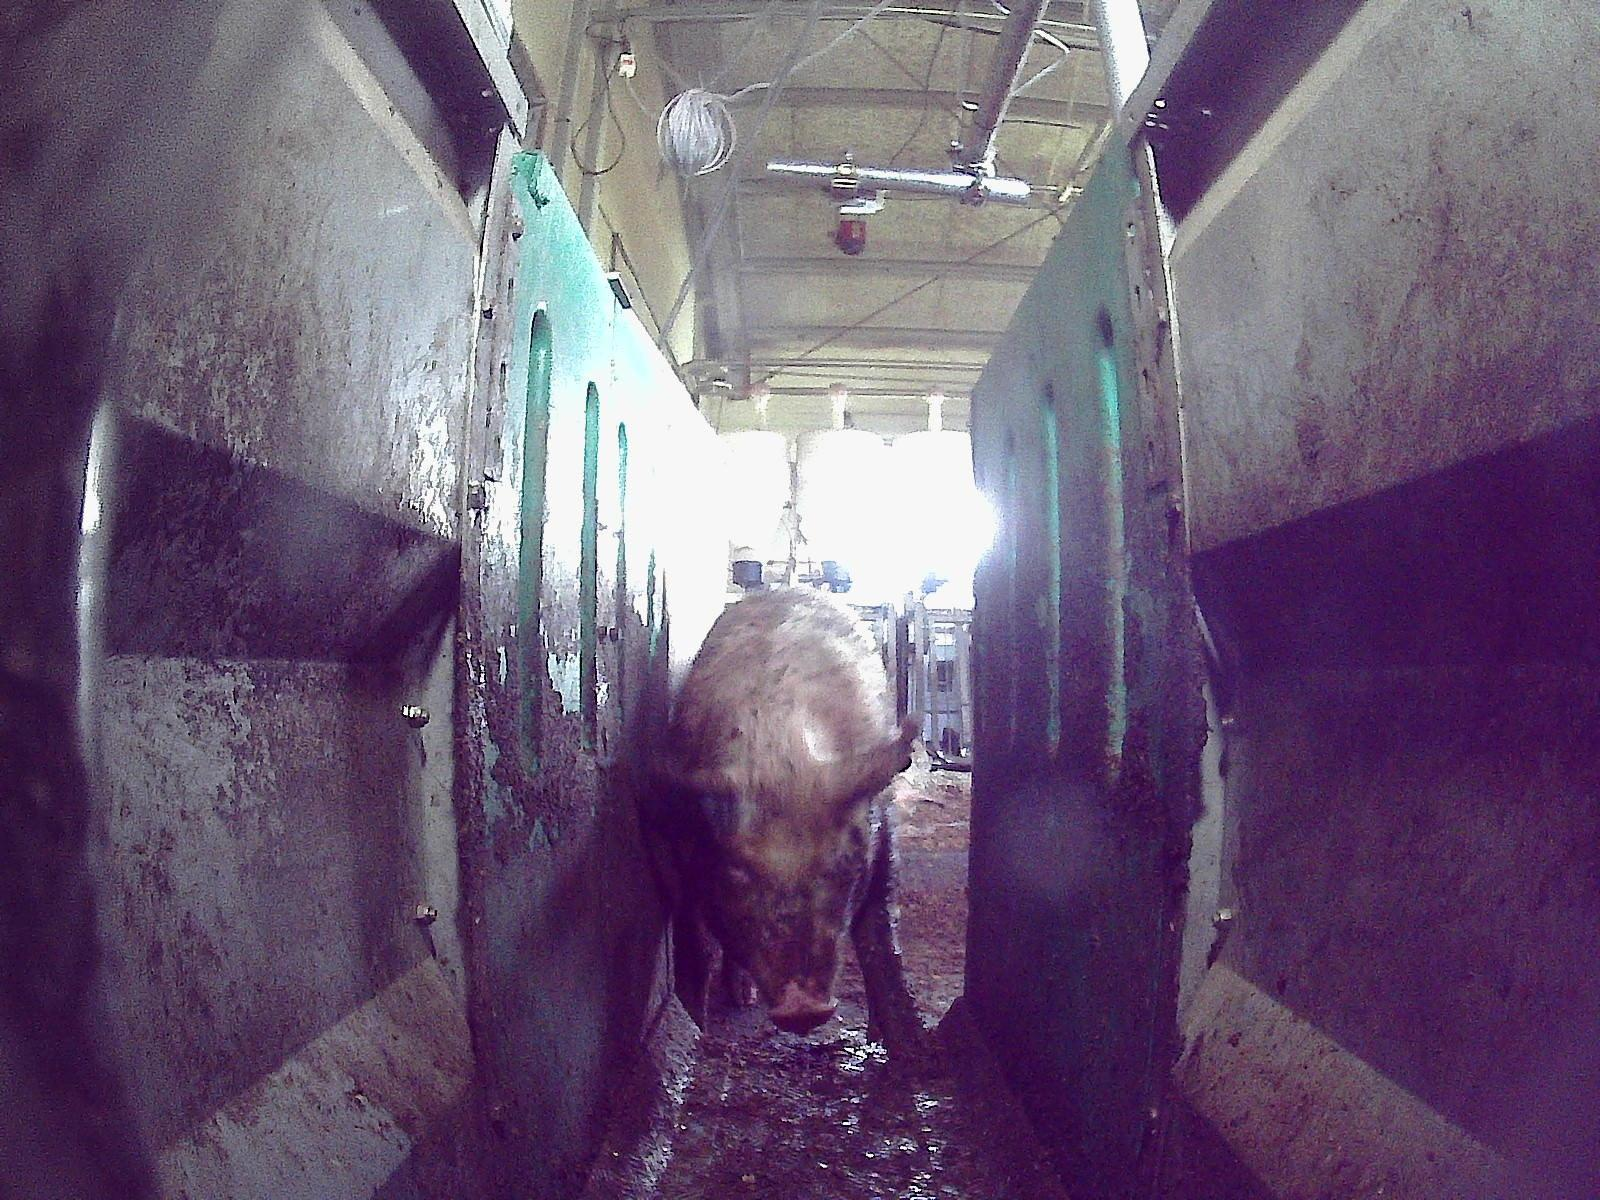Face: (699, 791, 862, 1033)
